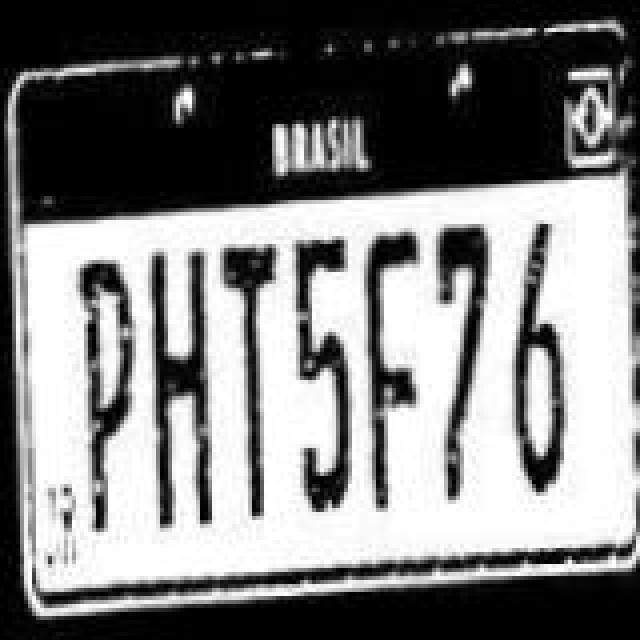5: (290, 214, 354, 522)
6: (502, 212, 574, 504)
7: (428, 210, 504, 502)
F: (360, 212, 436, 520)
H: (146, 220, 222, 540)
P: (76, 230, 140, 542)
T: (216, 216, 292, 520)
